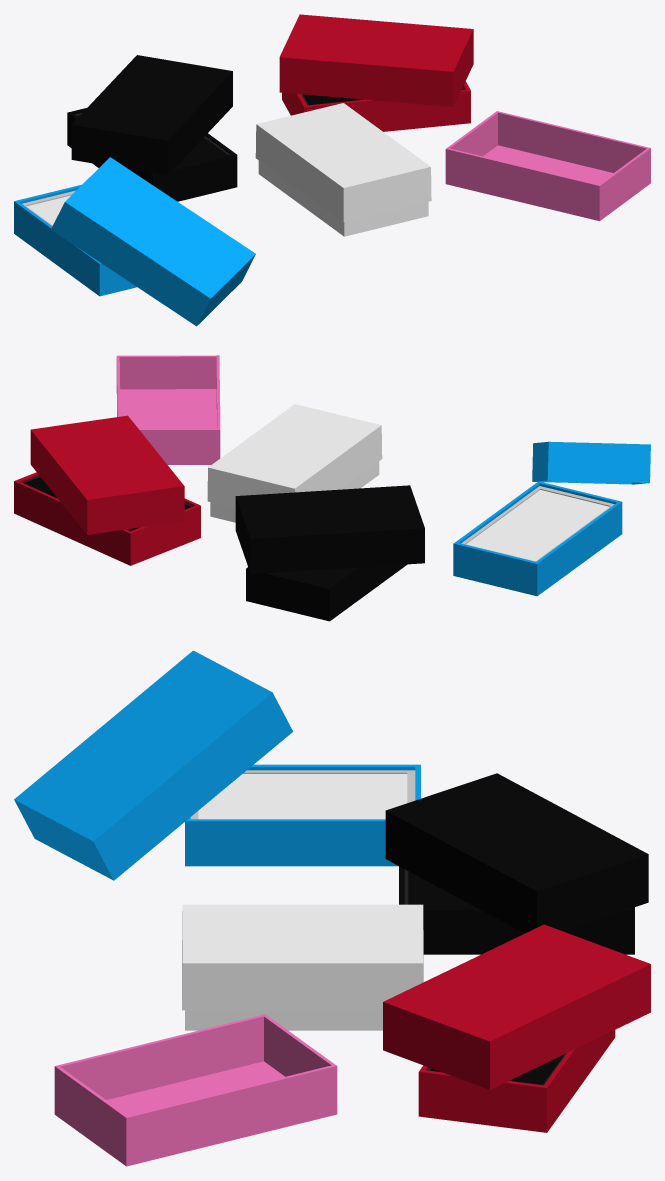
File: phone boxes.fbx
The picture shows the model from 3 angles, top to bottom: view 1: azimuth 30°, elevation 25°; view 2: azimuth 150°, elevation 25°; view 3: azimuth 270°, elevation 25°; orthographic projection. The views are drawn at different scales.
Parts seen in each view (by area): view 1: Cube.019, Cube.013, Cube.017, Cube.129, Cube.015, Cube.018, Cube.016, Cube.014, Cube.012, Cube.020, Cube.021; view 2: Cube.015, Cube.017, Cube.129, Cube.013, Cube.018, Cube.020, Cube.016, Cube.019, Cube.014, Cube.012, Cube.021; view 3: Cube.019, Cube.013, Cube.017, Cube.015, Cube.129, Cube.018, Cube.020, Cube.016, Cube.014, Cube.012, Cube.021.
Boxes of the visible parts, left/top/right/bottom form: Cube.019: left=51, top=157, right=255, bottom=326; Cube.013: left=445, top=111, right=650, bottom=221; Cube.017: left=279, top=14, right=473, bottom=106; Cube.129: left=255, top=103, right=431, bottom=222; Cube.015: left=71, top=55, right=232, bottom=175; Cube.018: left=14, top=184, right=136, bottom=296; Cube.016: left=282, top=81, right=470, bottom=131; Cube.014: left=67, top=108, right=237, bottom=201; Cube.012: left=258, top=160, right=428, bottom=236; Cube.020: left=22, top=190, right=75, bottom=225; Cube.021: left=74, top=113, right=229, bottom=167; Cube.015: left=235, top=485, right=424, bottom=573; Cube.017: left=30, top=415, right=184, bottom=534; Cube.129: left=207, top=404, right=382, bottom=508; Cube.013: left=116, top=355, right=220, bottom=464; Cube.018: left=453, top=481, right=622, bottom=596; Cube.020: left=461, top=486, right=614, bottom=561; Cube.016: left=14, top=472, right=200, bottom=565; Cube.019: left=532, top=441, right=650, bottom=484; Cube.014: left=246, top=564, right=407, bottom=621; Cube.012: left=210, top=461, right=379, bottom=522; Cube.021: left=271, top=567, right=354, bottom=586; Cube.019: left=14, top=650, right=293, bottom=880; Cube.013: left=54, top=1014, right=337, bottom=1166; Cube.017: left=383, top=924, right=650, bottom=1089; Cube.015: left=385, top=773, right=648, bottom=933; Cube.129: left=182, top=904, right=423, bottom=1010; Cube.018: left=185, top=764, right=420, bottom=866; Cube.020: left=190, top=770, right=415, bottom=819; Cube.016: left=418, top=1030, right=615, bottom=1132; Cube.014: left=399, top=866, right=634, bottom=954; Cube.012: left=185, top=1010, right=382, bottom=1030; Cube.021: left=404, top=869, right=476, bottom=907.
Bounding box in the file's own units: 44.01 × 7.88 × 31.03.
